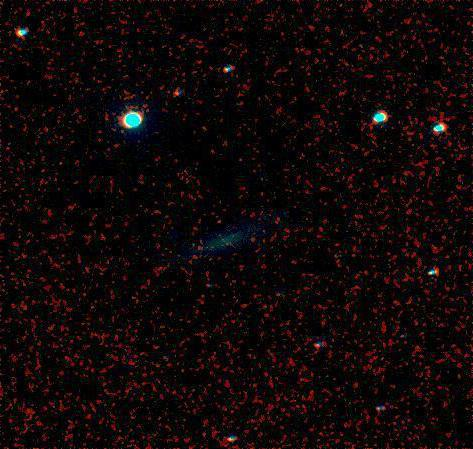star: (203, 205, 233, 235)
